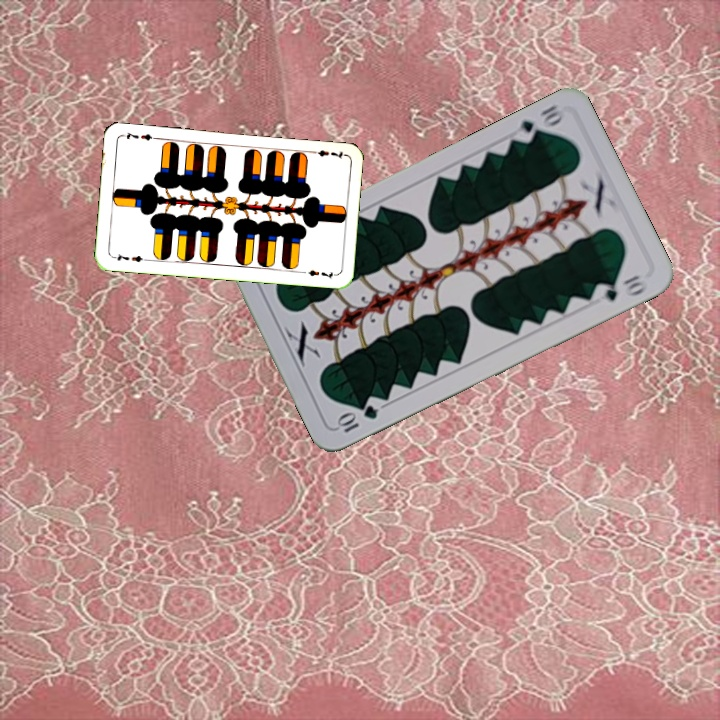E7: (109, 250, 150, 265), (306, 146, 347, 161)
G10: (510, 101, 568, 146), (333, 401, 381, 436)
